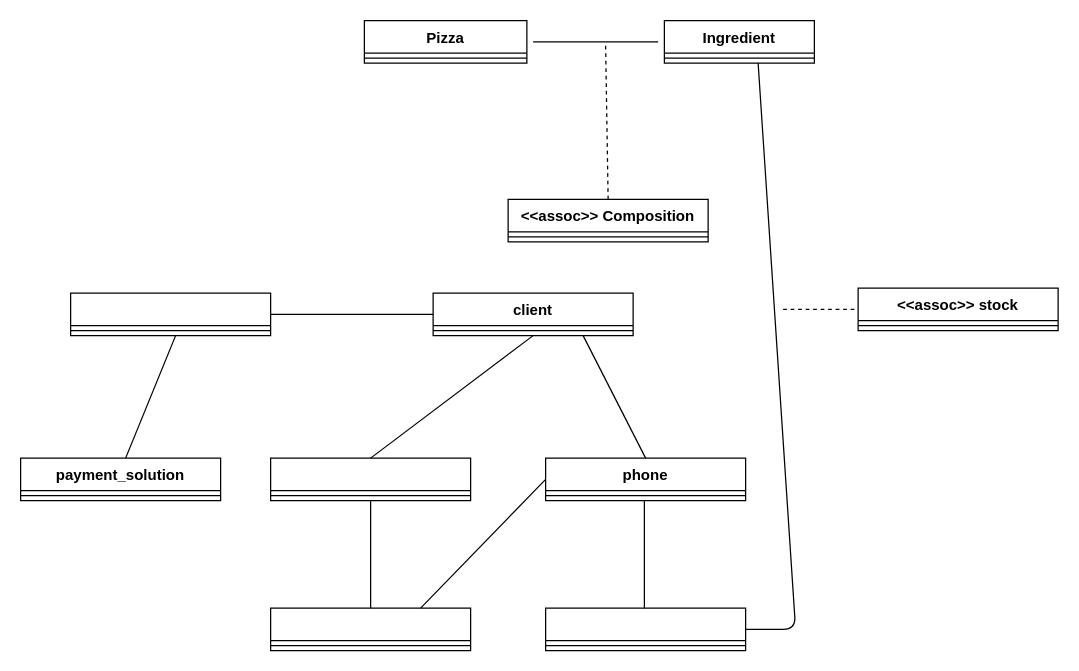
This 1079x671 diagram has some shape labels left out. The shapes that lost their labels are listed below. From the top down, each one's centre as x and y in pixels, then its label:
the point at 170,314: payment_history
the point at 370,479: address
the point at 370,629: employée
the point at 645,629: restaurant
